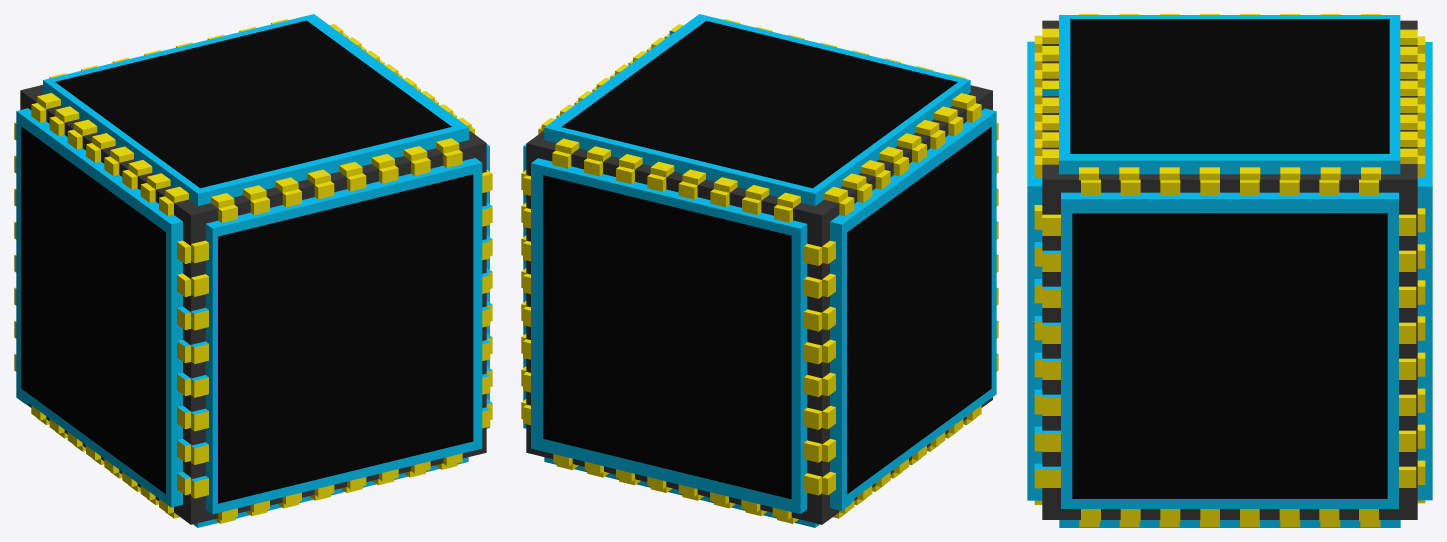
The model's file is блок из майна.obj.
The picture shows the model from 3 angles, left to right: view 1: azimuth 30°, elevation 25°; view 2: azimuth 150°, elevation 25°; view 3: azimuth 270°, elevation 25°; orthographic projection. The views are drawn at different scales.
Parts seen in each view (by area): view 1: Cube; view 2: Cube; view 3: Cube.
Part boxes in pixels (x1,y1,x2,y2): Cube: (14,14,492,527); Cube: (521,14,998,527); Cube: (1027,14,1432,527).
Bounding box in the file's own units: 1.08 × 1.08 × 1.08.
